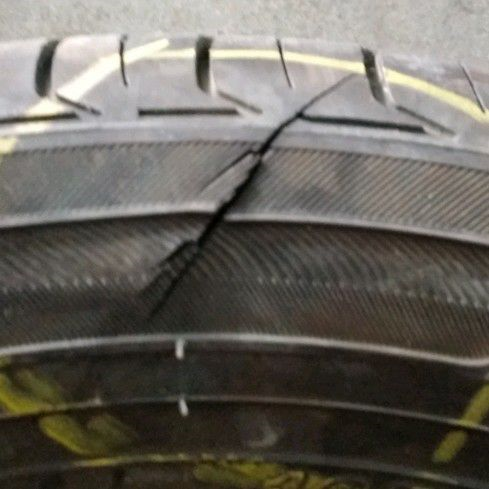cut: (146, 74, 352, 324)
